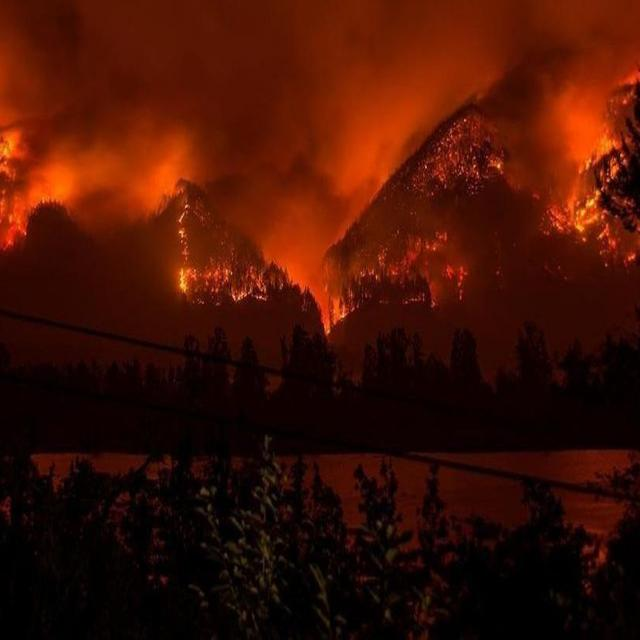fire: (542, 39, 640, 282), (171, 251, 269, 313), (0, 120, 32, 258), (312, 286, 358, 341)
